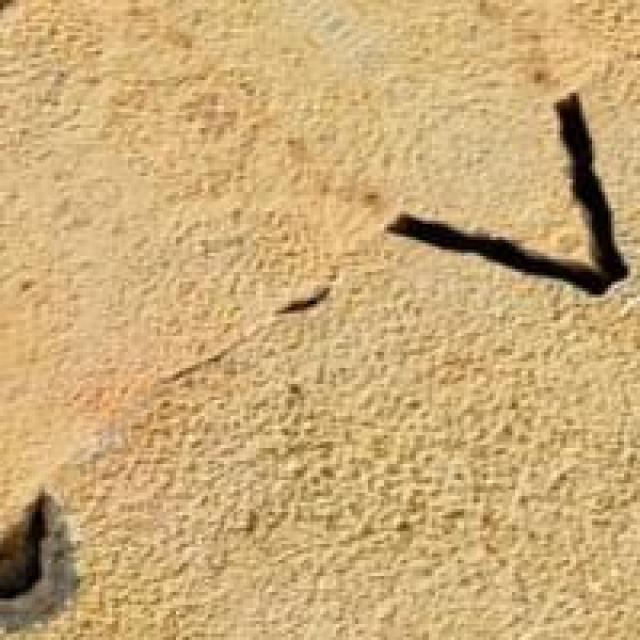Crack: (0, 96, 624, 637)
